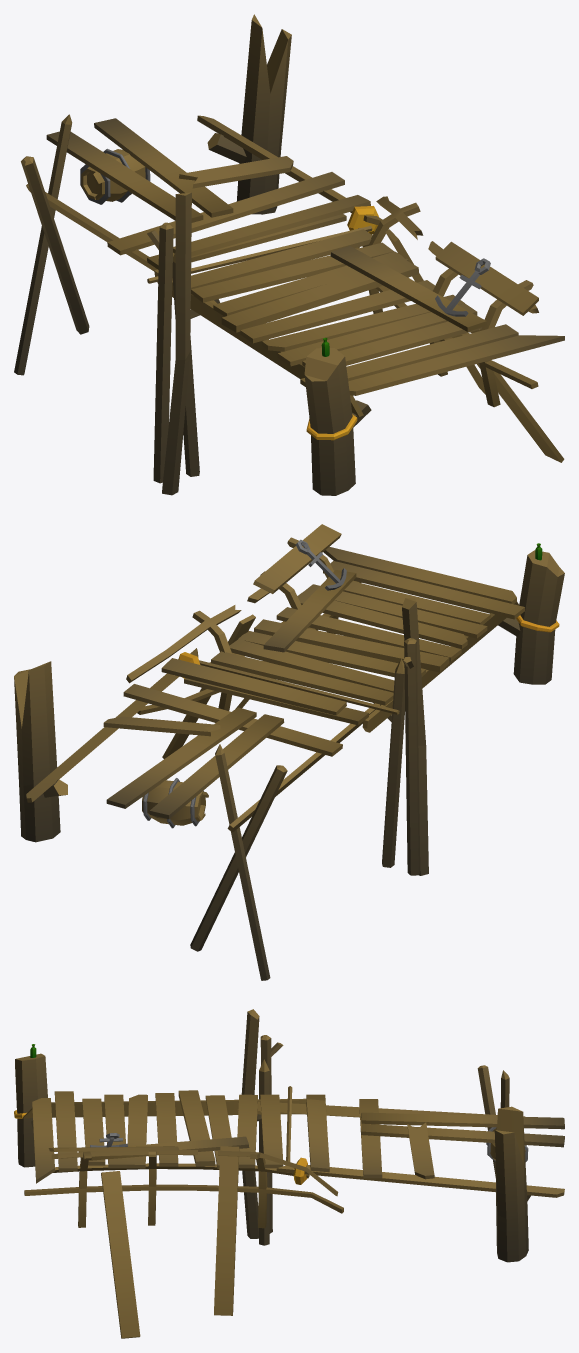
The model's file is dockfinished.fbx.
The picture shows the model from 3 angles, top to bottom: view 1: azimuth 30°, elevation 25°; view 2: azimuth 150°, elevation 25°; view 3: azimuth 270°, elevation 25°; orthographic projection. The views are drawn at different scales.
Parts seen in each view (by area): view 1: Dock; view 2: Dock; view 3: Dock.
Part boxes in pixels (x1,y1,x2,y2): Dock: [14, 14, 564, 495]; Dock: [14, 524, 564, 980]; Dock: [14, 1009, 564, 1338].
Size of the model in its own units: 551 by 498 by 1071.
